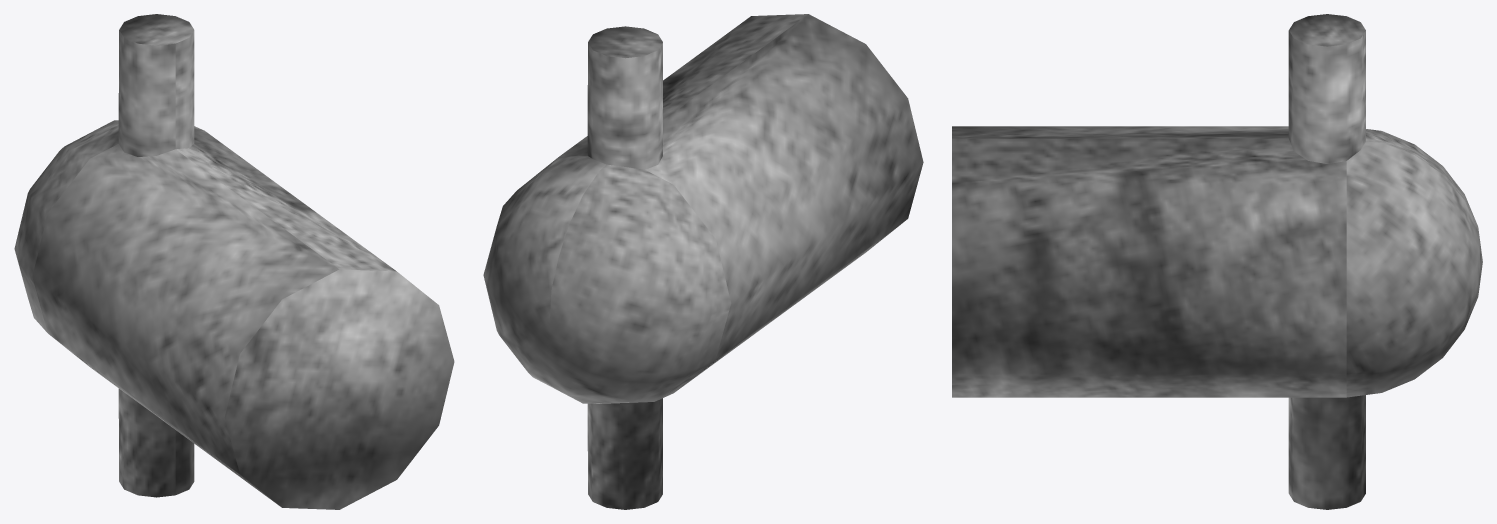
The model's file is WallGunTurret.obj.
3 renders of one model, left to right at view 1: azimuth 30°, elevation 25°; view 2: azimuth 150°, elevation 25°; view 3: azimuth 270°, elevation 25°, orthographic. The views are drawn at different scales.
Parts seen in each view (by area): view 1: Cube.002; view 2: Cube.002; view 3: Cube.002.
Boxes of the visible parts, x1,y1,x2,y2 form: Cube.002: (14,14,454,509); Cube.002: (483,14,923,509); Cube.002: (952,14,1482,509).
Size of the model in its own units: 2 by 3.76 by 3.9.
